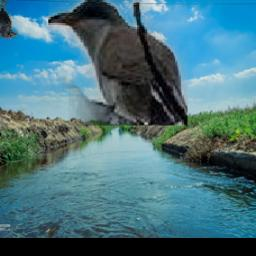Crow: (0, 0, 18, 40)
Cuckoo: (48, 0, 188, 126)
